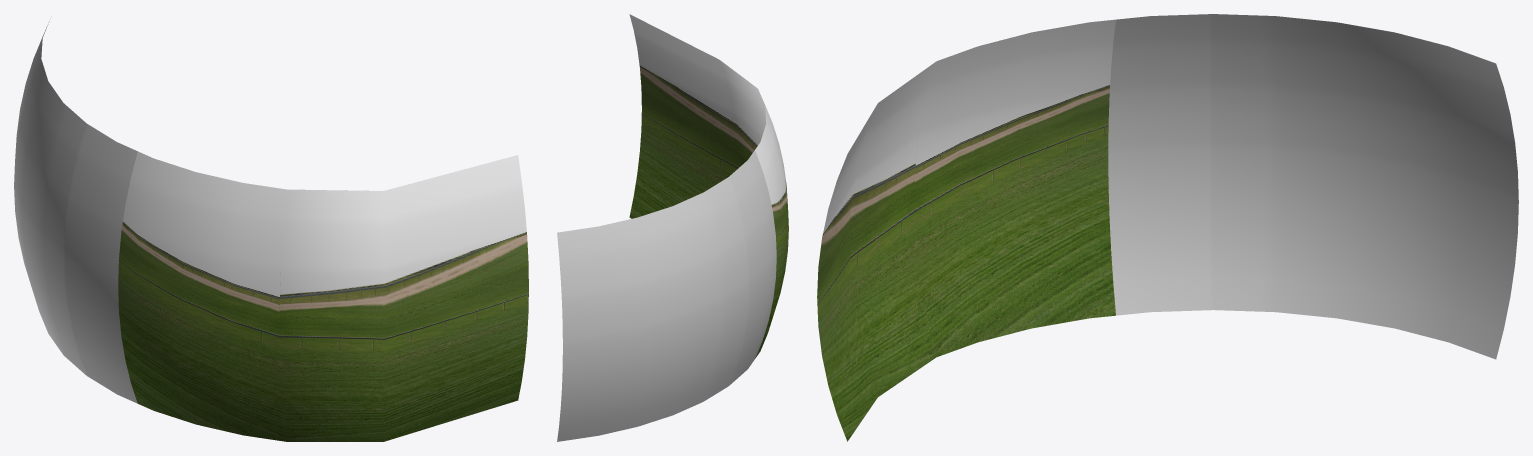
File: 2000m_StartHighResPanaramic.fbx
3 views of the same model, side by side, from view 1: azimuth 30°, elevation 25°; view 2: azimuth 150°, elevation 25°; view 3: azimuth 270°, elevation 25° (orthographic). The views are drawn at different scales.
Parts seen in each view (by area): view 1: polymsh1; view 2: polymsh1; view 3: polymsh1.
Boxes of the visible parts, x1,y1,x2,y2 form: polymsh1: (14,21,528,441); polymsh1: (557,14,788,441); polymsh1: (817,14,1518,441).
Size of the model in its own units: 8.86 by 7.56 by 15.33.
